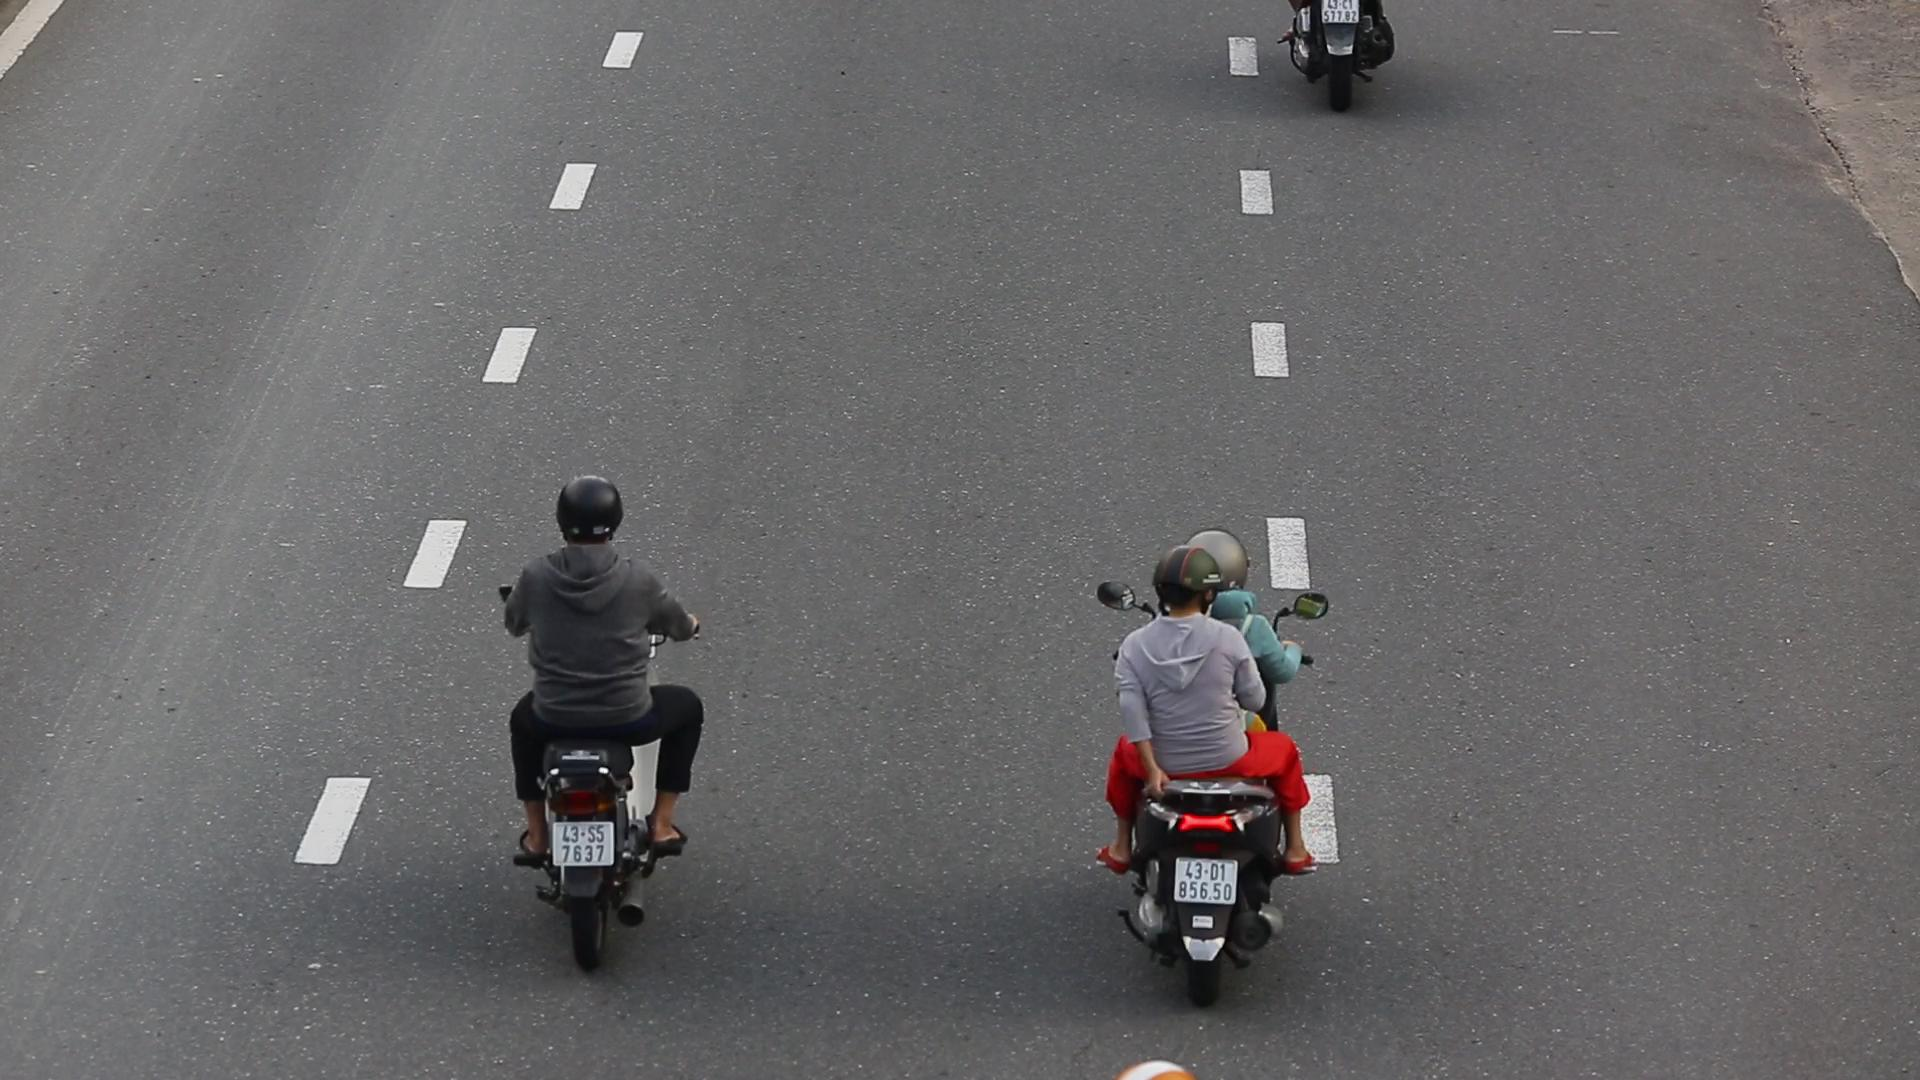motobike: (1077, 518, 1328, 1009), (493, 471, 716, 981)
